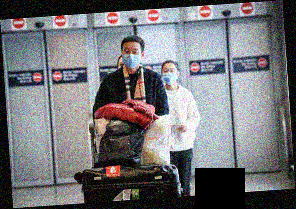with_mask: (121, 45, 142, 70), (162, 66, 178, 87)
